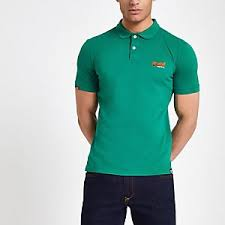C_polo shirt: (67, 21, 201, 177)
